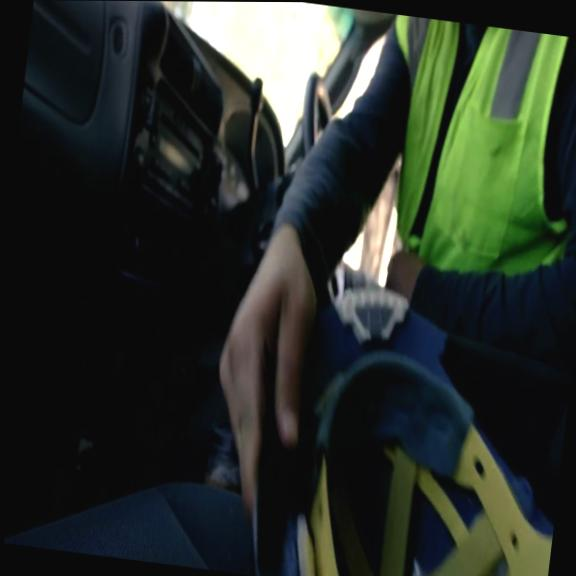safety_vest: (365, 14, 576, 286)
